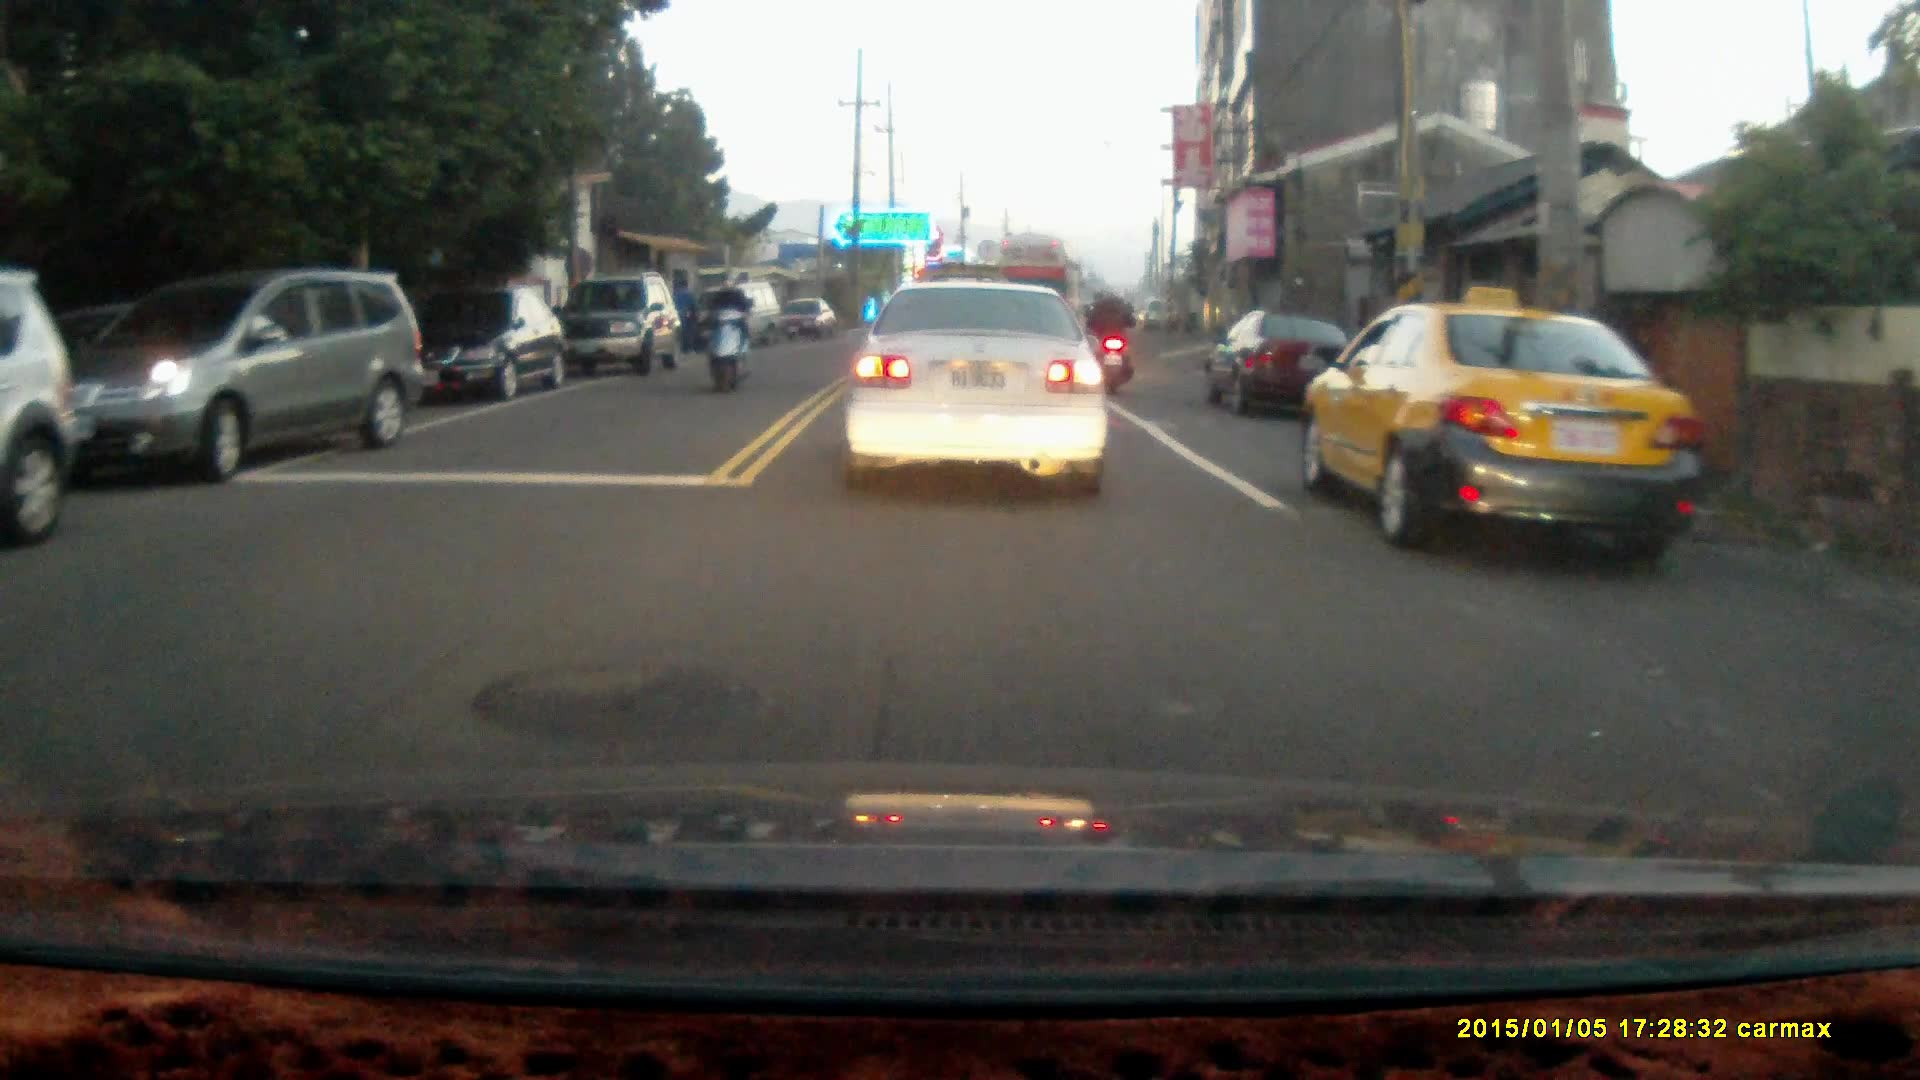rider: (1082, 281, 1140, 403), (699, 268, 752, 396)
vehicle: (1295, 302, 1703, 566), (57, 271, 429, 481), (842, 282, 1118, 505), (1, 270, 72, 554), (400, 284, 564, 403), (1212, 309, 1357, 415), (556, 273, 684, 376), (690, 287, 783, 357), (773, 297, 839, 342)
